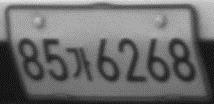2: (117, 37, 147, 82)
5: (41, 37, 68, 81)
6: (145, 37, 171, 83), (96, 38, 120, 82)
8: (167, 37, 197, 81), (17, 38, 44, 79)
가: (65, 46, 93, 80)
